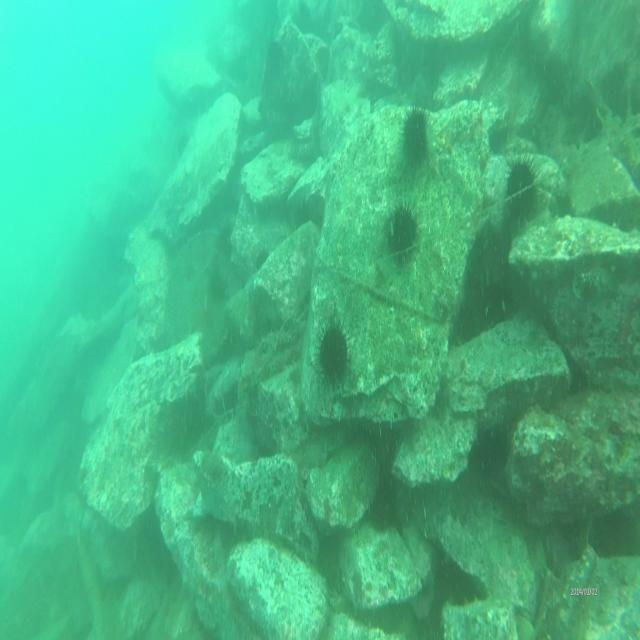echinus: (500, 152, 540, 228), (398, 96, 435, 170), (312, 317, 350, 388), (381, 200, 419, 264)
